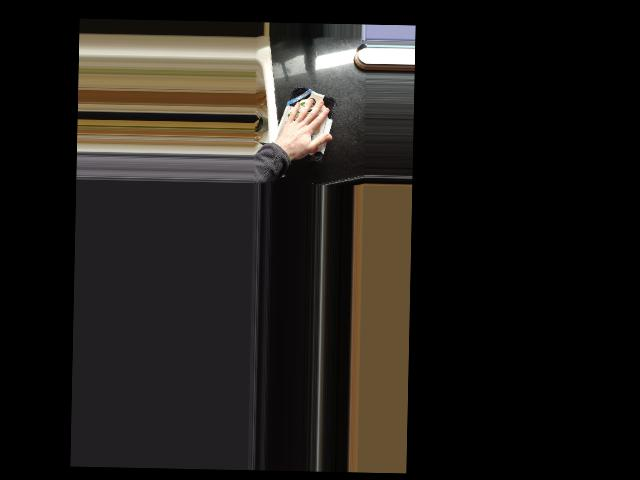cheese: (270, 84, 338, 162)
